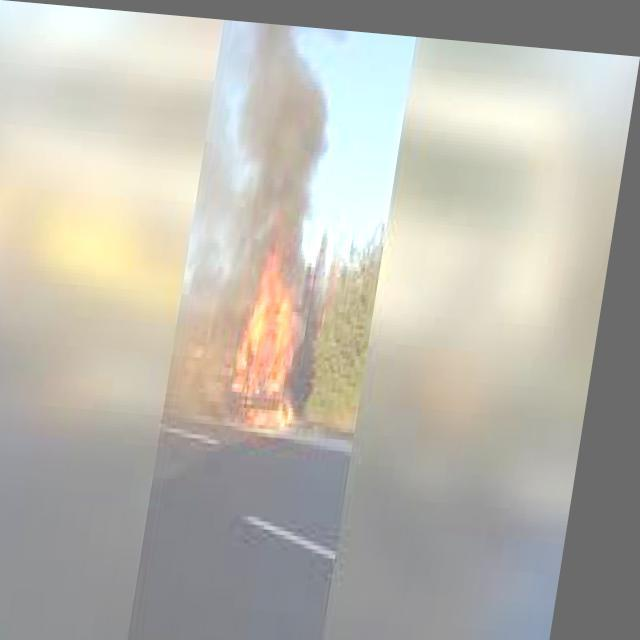Fire: (224, 228, 339, 430)
